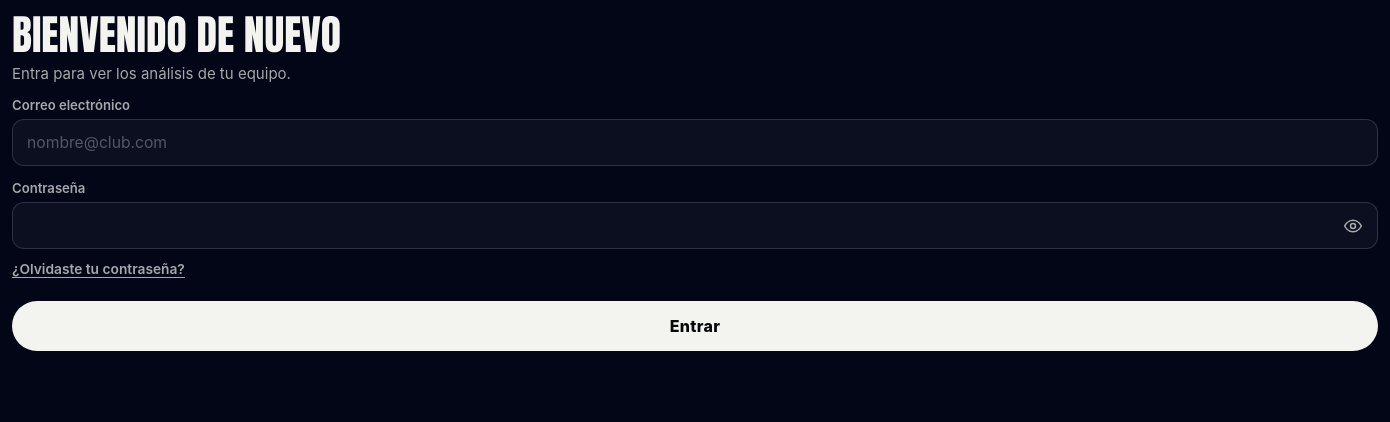
it: login form › a failed login clears only the password and shows the reason in Spanish
Type "  mateo@club.com " into the field labelled "Correo electrónico".
click(695, 143); type("  mateo@club.com ")  # box [12,119,1378,166]
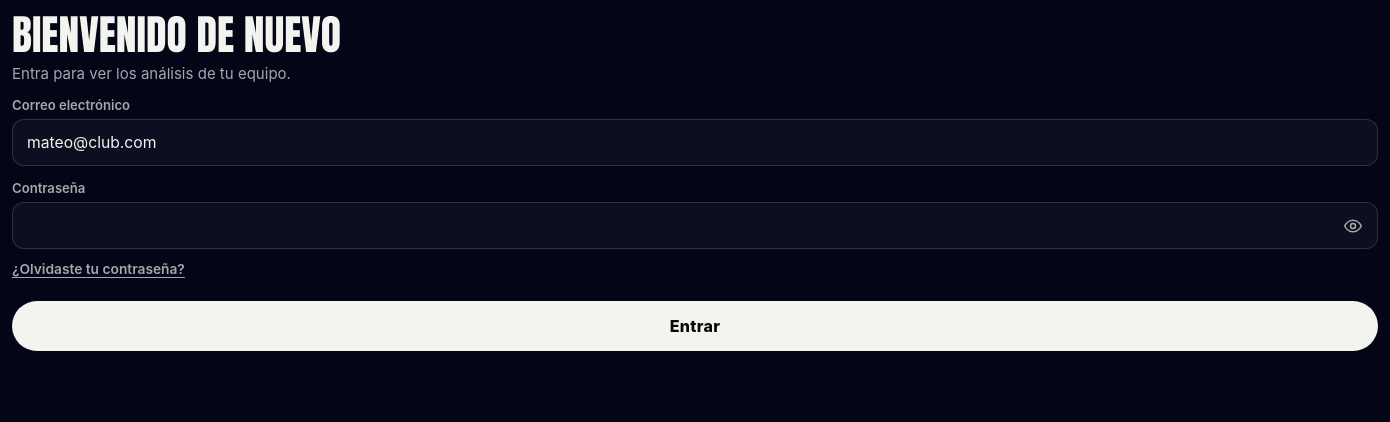
Type "Pizarra#2026" into the password field labelled "Contraseña".
click(695, 226); type("Pizarra#2026")  # box [12,202,1378,249]
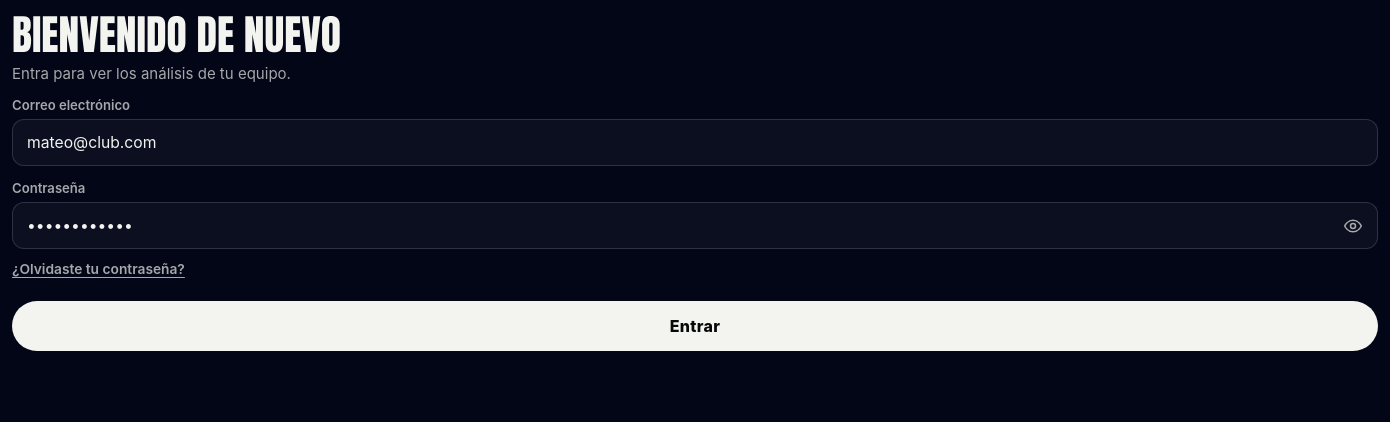
Click the button "Entrar".
click(695, 326)  # box [12,301,1378,351]
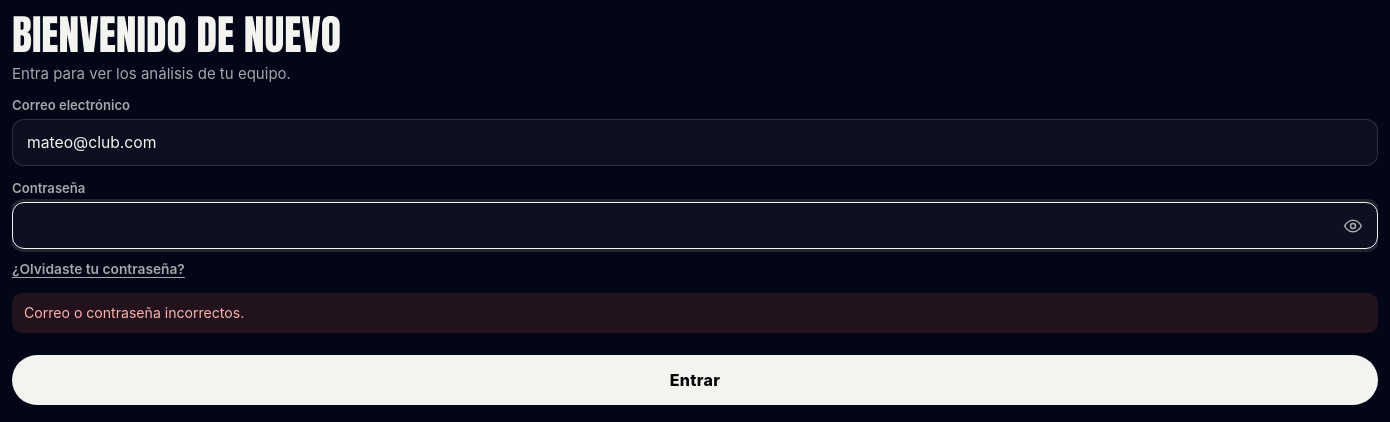
Expected: the message reads "Correo o contraseña incorrectos.", [24,304,244,321]
Expected: the password field labelled "Contraseña" is empty, [12,202,1378,249]
